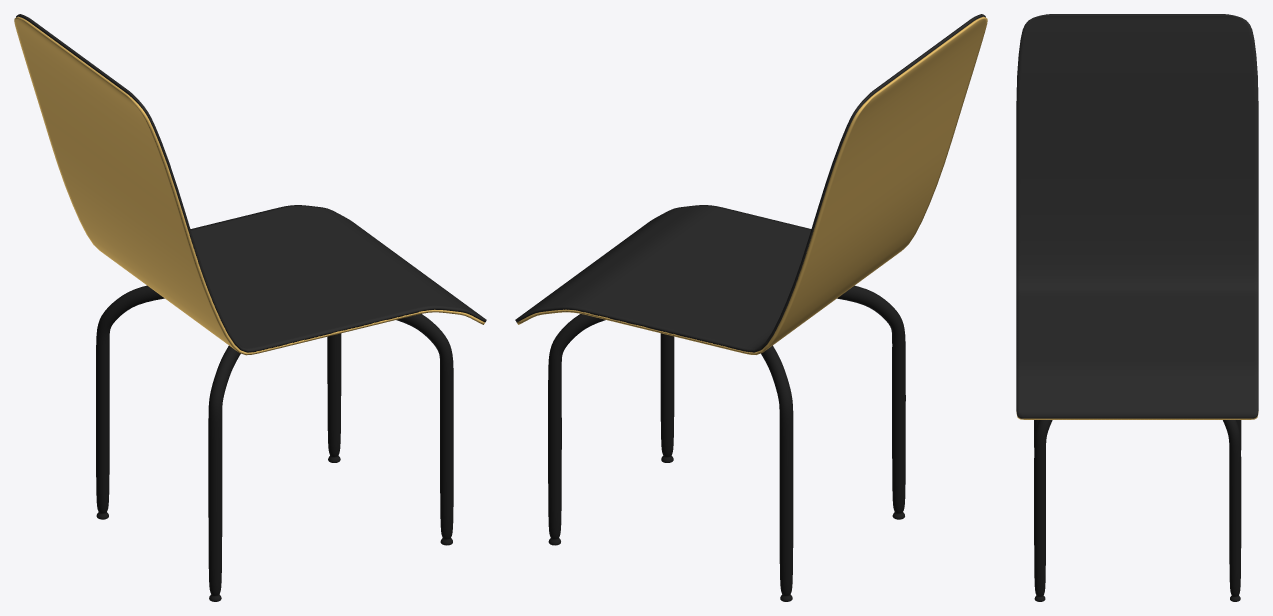
Rendered from chair-2.fbx.
The picture shows the model from 3 angles, left to right: view 1: azimuth 30°, elevation 25°; view 2: azimuth 150°, elevation 25°; view 3: azimuth 270°, elevation 25°; orthographic projection. The views are drawn at different scales.
Visible parts, largest first — view 1: Plane.001, Plane.002, Cylinder; view 2: Plane.001, Plane.002, Cylinder; view 3: Plane.001, Cylinder, Plane.002.
Boxes of the visible parts, x1=… form: Plane.001: x1=16, y1=14, x2=486, y2=352; Plane.002: x1=14, y1=16, x2=484, y2=355; Cylinder: x1=96, y1=285, x2=453, y2=601; Plane.001: x1=515, y1=14, x2=985, y2=352; Plane.002: x1=517, y1=16, x2=987, y2=354; Cylinder: x1=548, y1=285, x2=905, y2=601; Plane.001: x1=1016, y1=14, x2=1258, y2=418; Cylinder: x1=1034, y1=420, x2=1241, y2=601; Plane.002: x1=1016, y1=411, x2=1258, y2=419.
Bounding box in the file's own units: 229 × 333 × 161.
